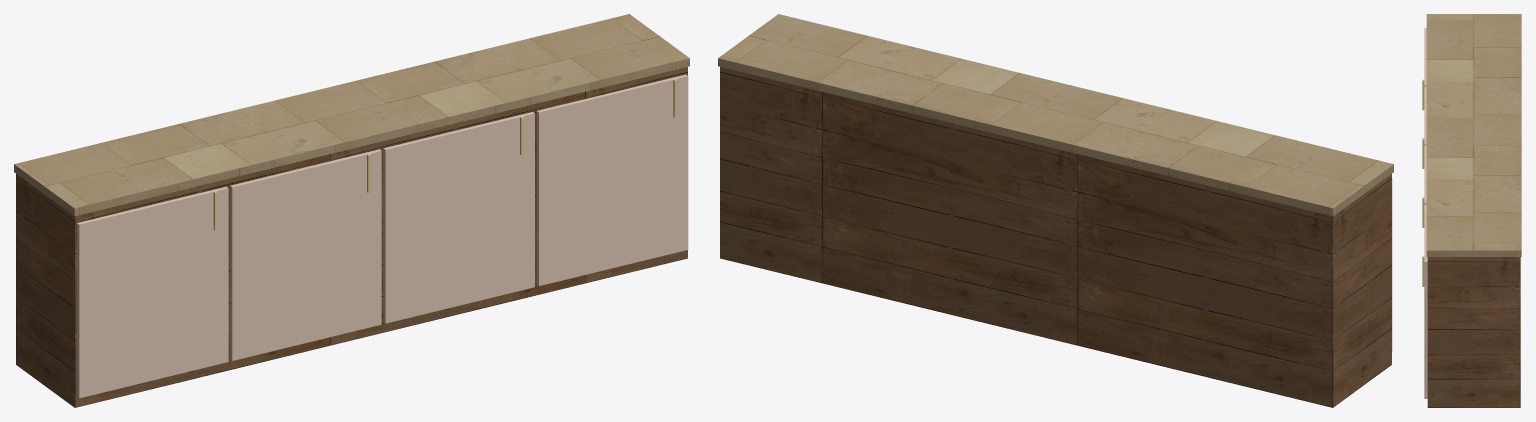
The model's file is armario_baixo_240.glb.
The picture shows the model from 3 angles, left to right: view 1: azimuth 30°, elevation 25°; view 2: azimuth 150°, elevation 25°; view 3: azimuth 270°, elevation 25°; orthographic projection. The views are drawn at different scales.
Parts seen in each view (by area): view 1: armario_baixo_240; view 2: armario_baixo_240; view 3: armario_baixo_240.
Boxes of the visible parts, bbox=[...] form: armario_baixo_240: bbox=[14, 14, 689, 407]; armario_baixo_240: bbox=[718, 14, 1393, 407]; armario_baixo_240: bbox=[1422, 14, 1521, 407].
Size of the model in its own units: 2.41 by 0.75 by 0.429.
Materials: 4 (2 with a texture image).
